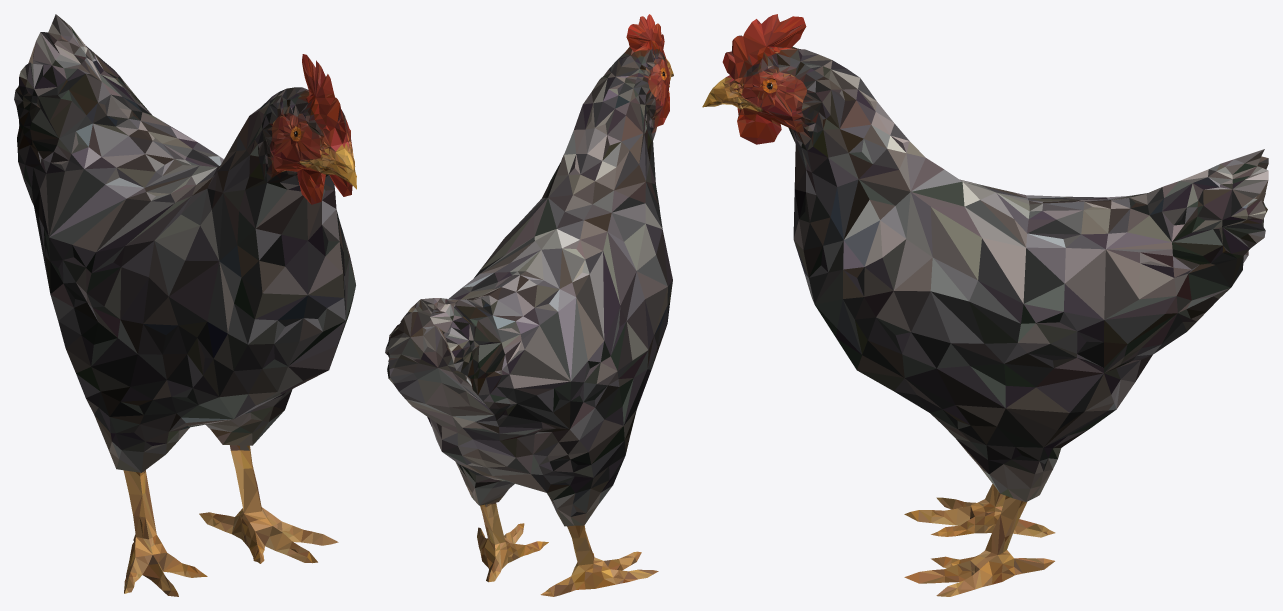
The model's file is chicken.obj.
3 views of the same model, side by side, from view 1: azimuth 30°, elevation 25°; view 2: azimuth 150°, elevation 25°; view 3: azimuth 270°, elevation 25° (orthographic). The views are drawn at different scales.
Visible parts, largest first — view 1: chicken_lp_Untitled; view 2: chicken_lp_Untitled; view 3: chicken_lp_Untitled.
Boxes of the visible parts, left/top/right/bottom form: chicken_lp_Untitled: left=14, top=14, right=356, bottom=596; chicken_lp_Untitled: left=385, top=14, right=673, bottom=596; chicken_lp_Untitled: left=702, top=14, right=1268, bottom=596.
Size of the model in its own units: 0.2716 by 0.6958 by 0.6645.
